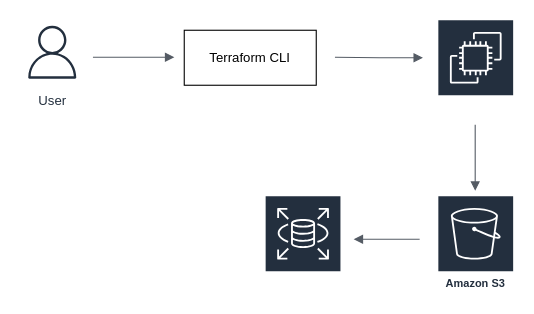
Some shapes in this 534 by 314 pixel diagram are drawn without their labels. Each missing label, with the box of its shape:
Amazon EC2: (436, 18, 514, 118)
Amazon RDS: (263, 194, 342, 294)
